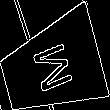M_W: (27, 37, 76, 97)
